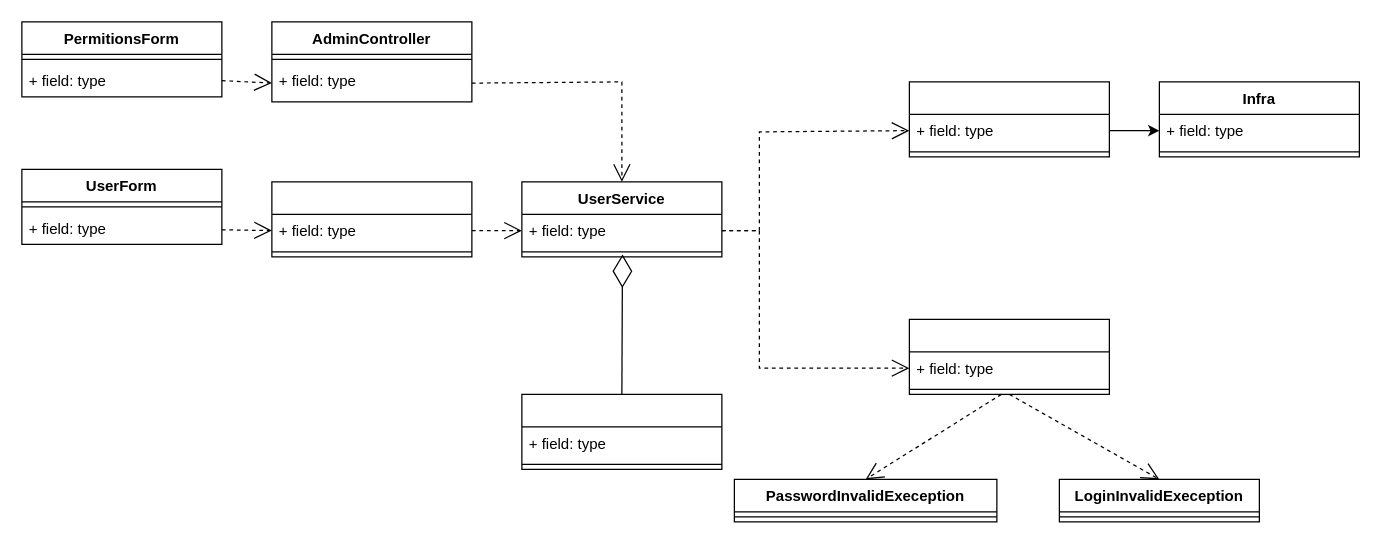
The diagram is 1381 pixels wide and 544 high, and some of its shapes have lost their labels. Here are the shapes that lost their labels. From the top down, the box of each, then its label:
(908, 81, 1109, 157): UserPersistence
(271, 181, 472, 257): UserController
(908, 318, 1109, 394): UserValidation
(521, 393, 722, 469): UserModel
